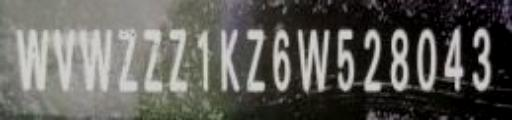letter: (292, 27, 332, 91), (74, 27, 110, 93), (14, 25, 48, 91), (410, 27, 440, 91), (466, 25, 494, 93), (358, 29, 386, 95), (214, 27, 240, 97), (112, 27, 138, 93), (166, 27, 192, 93), (138, 29, 164, 93), (242, 27, 266, 95), (440, 27, 464, 93), (270, 27, 292, 97), (52, 25, 74, 93), (332, 29, 354, 93), (388, 27, 408, 93), (194, 27, 210, 95)
